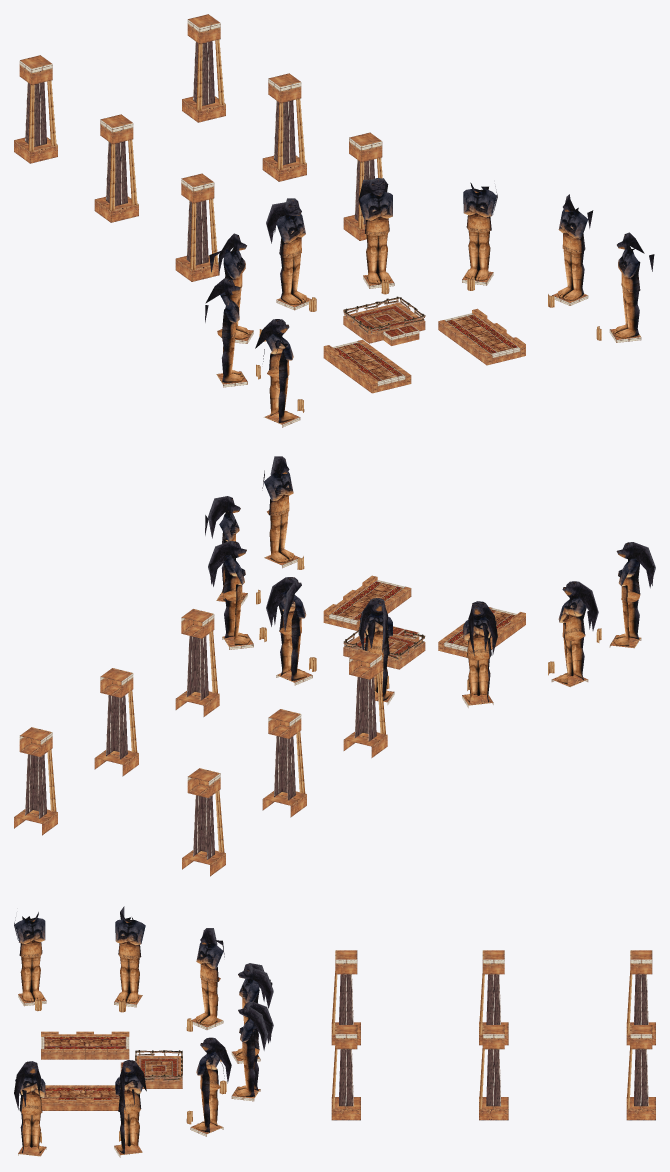
File: SandOcean2P.obj
The picture shows the model from 3 angles, top to bottom: view 1: azimuth 30°, elevation 25°; view 2: azimuth 150°, elevation 25°; view 3: azimuth 270°, elevation 25°; orthographic projection. The views are drawn at different scales.
Bounding box in the file's own units: 1396 × 347 × 2176.
Materials: 13 (13 with a texture image).
